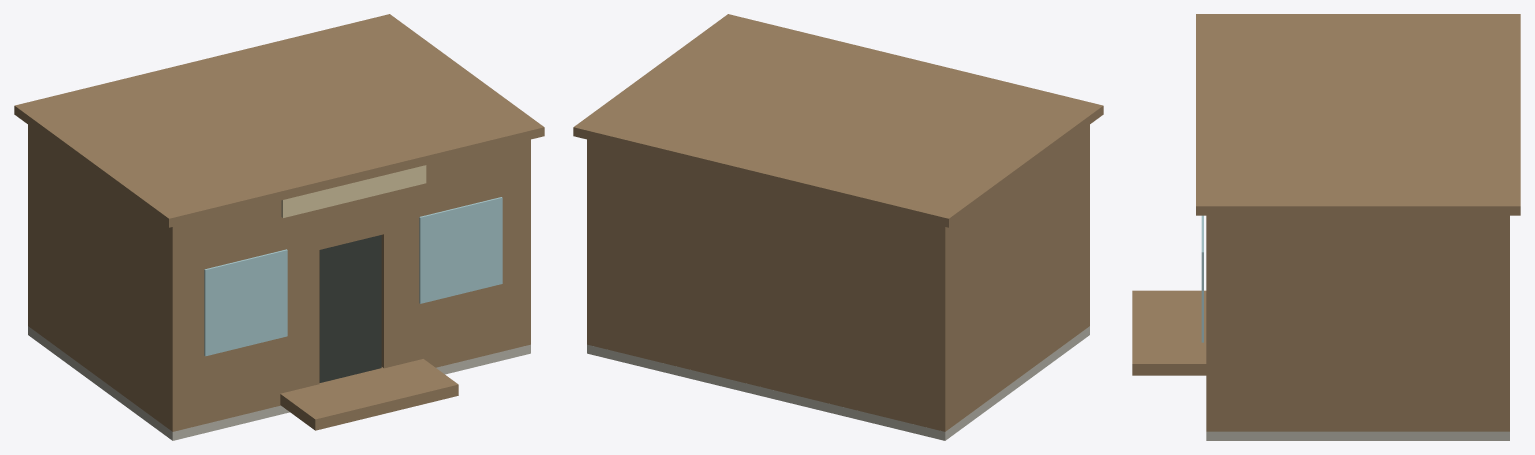
The picture shows the model from 3 angles, left to right: view 1: azimuth 30°, elevation 25°; view 2: azimuth 150°, elevation 25°; view 3: azimuth 270°, elevation 25°; orthographic projection. The views are drawn at different scales.
Parts seen in each view (by area): view 1: education-centre; view 2: education-centre; view 3: education-centre.
Boxes of the visible parts, left/top/right/bottom form: education-centre: left=14, top=14, right=544, bottom=440; education-centre: left=573, top=14, right=1103, bottom=440; education-centre: left=1132, top=14, right=1520, bottom=440.
Bounding box in the file's own units: 5.24 × 3.04 × 4.47.
